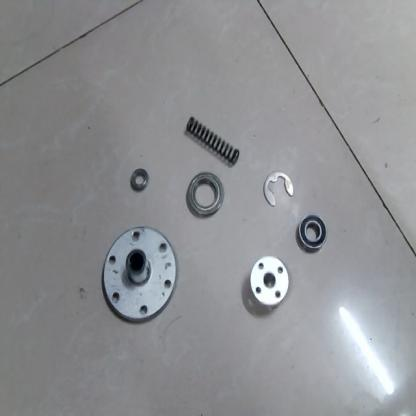FOD: (98, 226, 180, 324), (184, 113, 240, 168), (250, 256, 290, 308), (185, 172, 226, 217), (297, 211, 329, 256), (261, 170, 295, 210), (127, 169, 150, 193)
